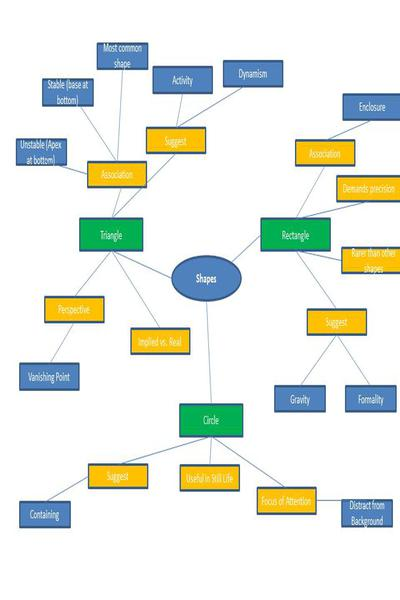arrow: (115, 153, 184, 218), (213, 436, 286, 486), (113, 252, 160, 325), (294, 250, 337, 308), (179, 88, 240, 126), (123, 437, 209, 461), (81, 107, 115, 160), (337, 335, 372, 385), (75, 252, 113, 298), (302, 336, 335, 385), (115, 253, 173, 280), (305, 202, 385, 220), (299, 166, 322, 217), (46, 477, 88, 501), (328, 120, 375, 138), (234, 235, 261, 264), (53, 324, 73, 360), (117, 73, 123, 161), (304, 250, 340, 263), (64, 164, 87, 179), (316, 496, 342, 504), (176, 95, 182, 126), (114, 188, 120, 216), (208, 438, 213, 463)
idea: (78, 215, 146, 253), (178, 404, 245, 438), (221, 59, 285, 90), (151, 65, 214, 96), (336, 173, 400, 203), (85, 159, 150, 188), (256, 486, 318, 515), (129, 327, 193, 355), (43, 296, 107, 324), (18, 361, 79, 390), (293, 138, 356, 166), (340, 246, 400, 275), (179, 464, 241, 492), (305, 308, 368, 335), (41, 76, 94, 108), (341, 93, 400, 121), (274, 384, 327, 414), (340, 498, 393, 528), (88, 463, 151, 488), (96, 41, 147, 71), (15, 138, 69, 166), (344, 385, 396, 413), (18, 500, 71, 527)
topic: (171, 256, 243, 305)
